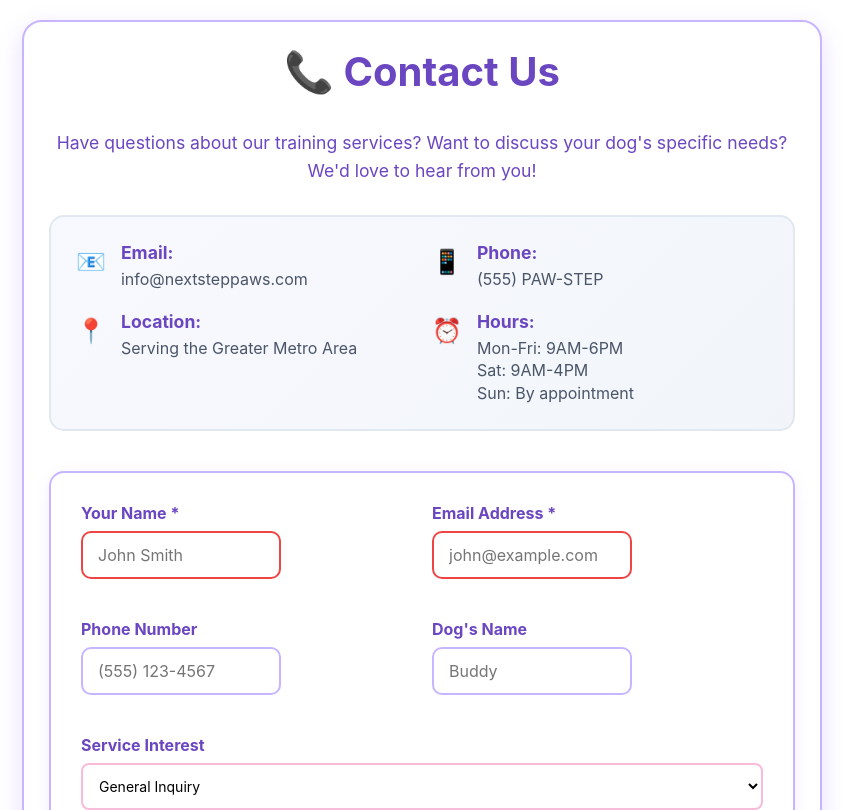
Test: ContactUs Component › shows success message after submission
// Fill required fields
Type "Jane Doe" into the field with placeholder "John Smith". click: (181, 555)
box: [81,531,281,579]
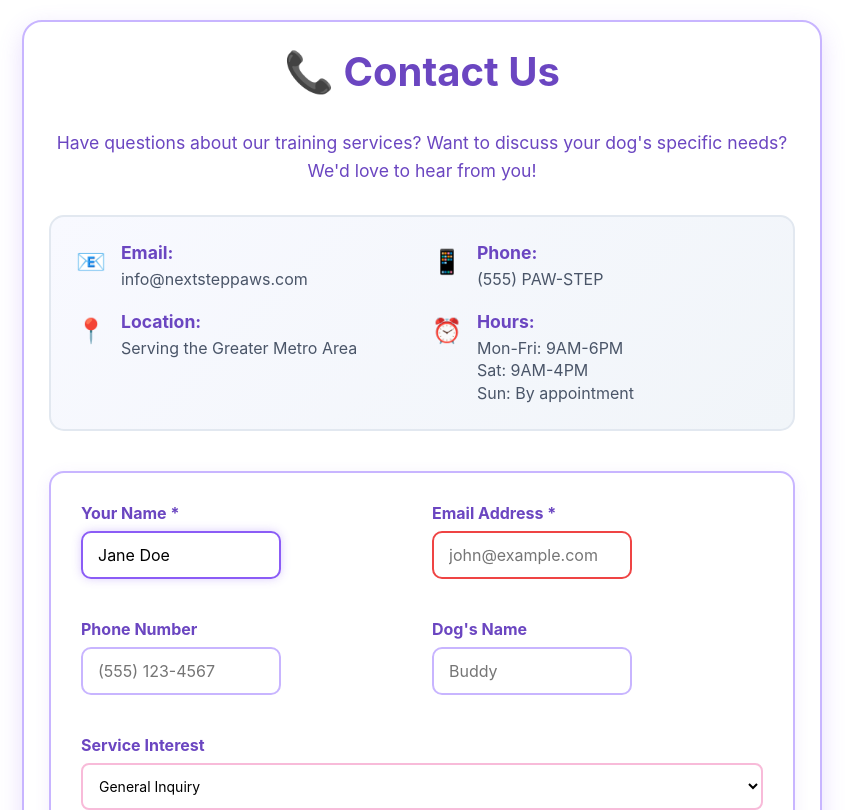
Type "jane@example.com" into the field with placeholder "john@example.com". click: (532, 555)
box: [432,531,632,579]
(page scrolled)
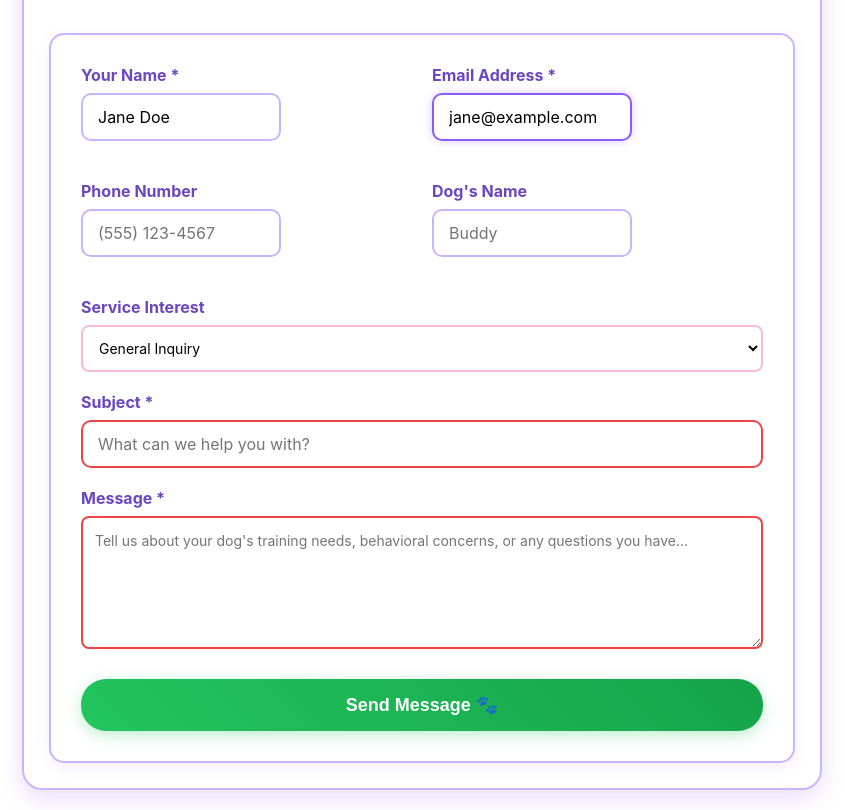
Type "Test inquiry" into the field with placeholder "What can we help you with?". click: (422, 444)
box: [81,420,763,468]
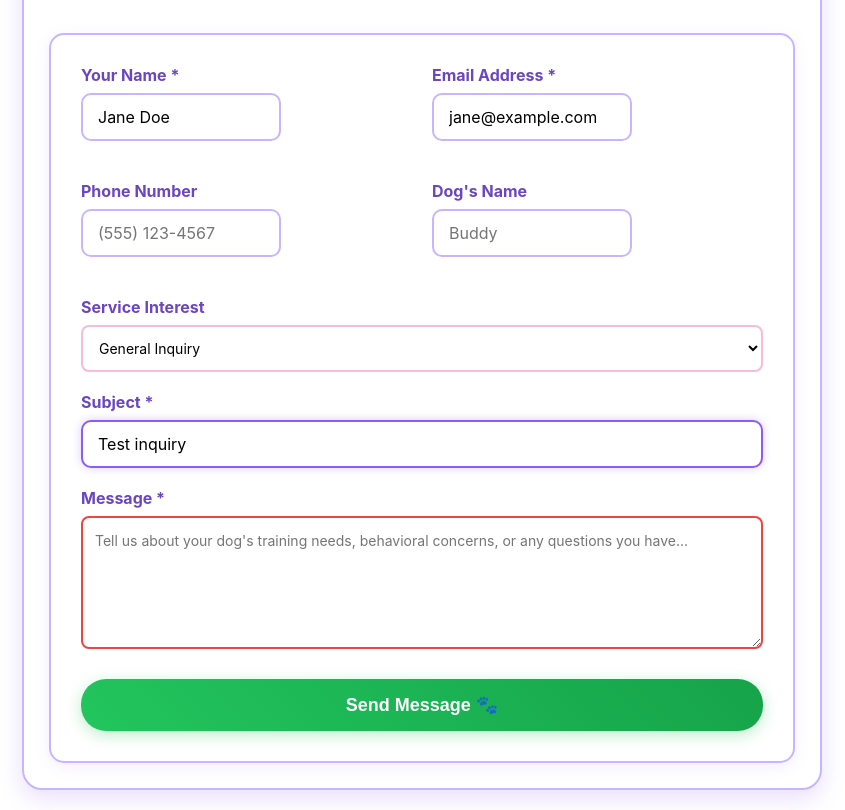
Type "Test message" into the text box with placeholder "Tell us about your dog's training needs". click: (422, 582)
box: [81,516,763,649]
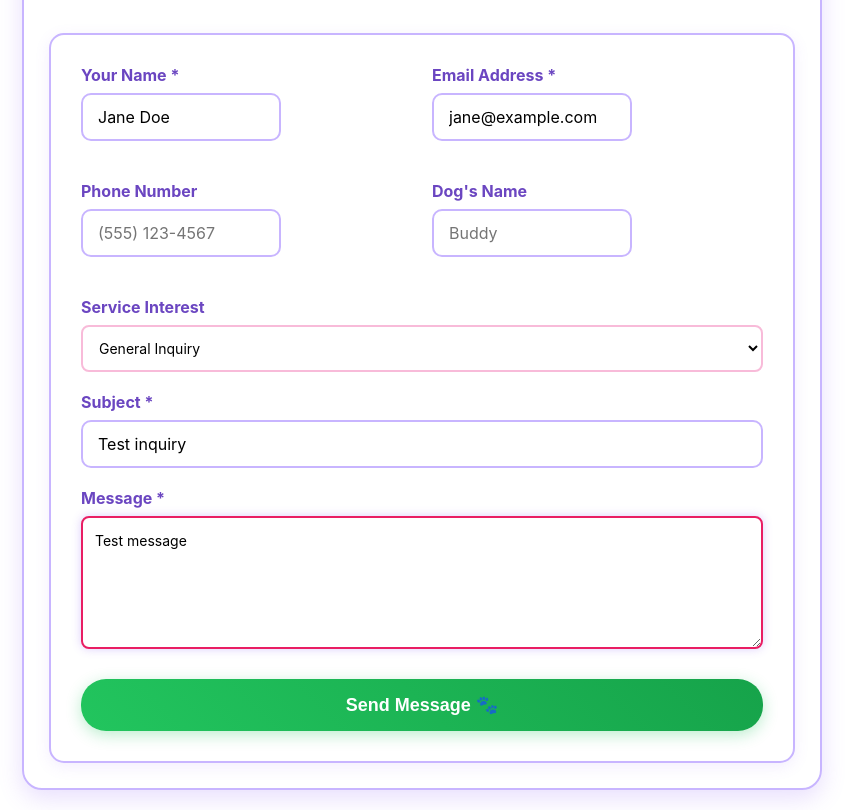
Click the button "Send Message 🐾". click: (422, 705)
box: [81,679,763,731]
(page scrolled)
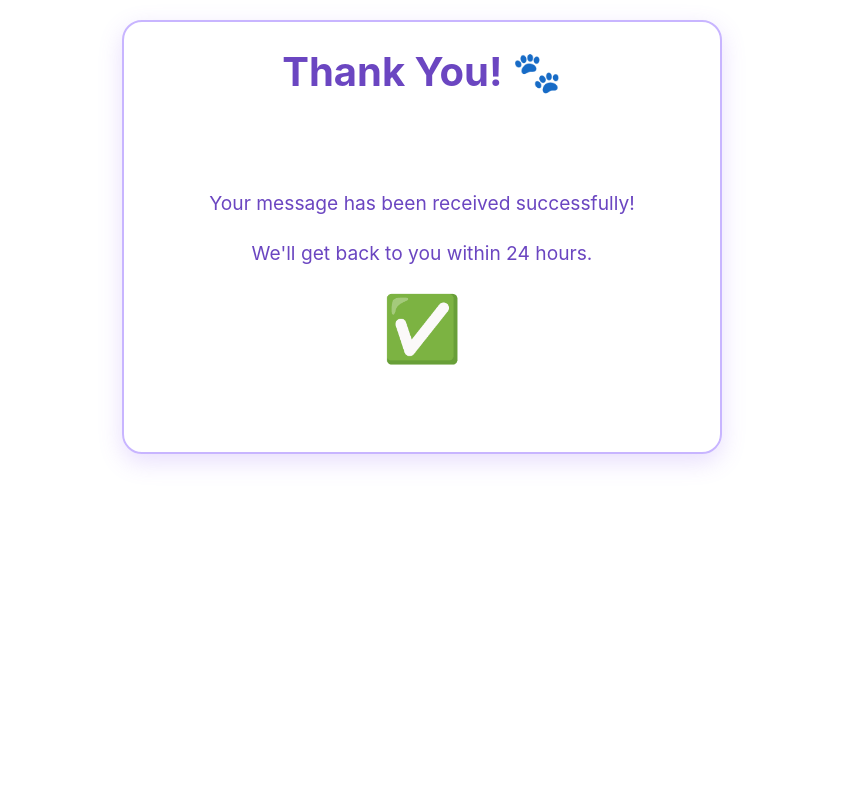
Now the heading "Thank You! 🐾" is shown, box [282,47,562,96]
Now the text "Your message has been received successfully!" is shown, box [179,188,665,219]
Now the text "We'll get back to you within 24 hours." is shown, box [252,241,592,265]
